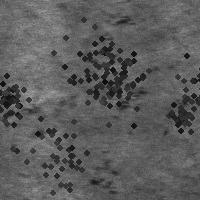rolled-in_scale: (52, 11, 154, 113), (3, 103, 103, 200), (78, 55, 150, 127), (159, 50, 200, 122), (21, 93, 77, 138), (0, 70, 32, 126), (157, 92, 199, 134), (88, 145, 121, 195), (113, 84, 149, 115)
